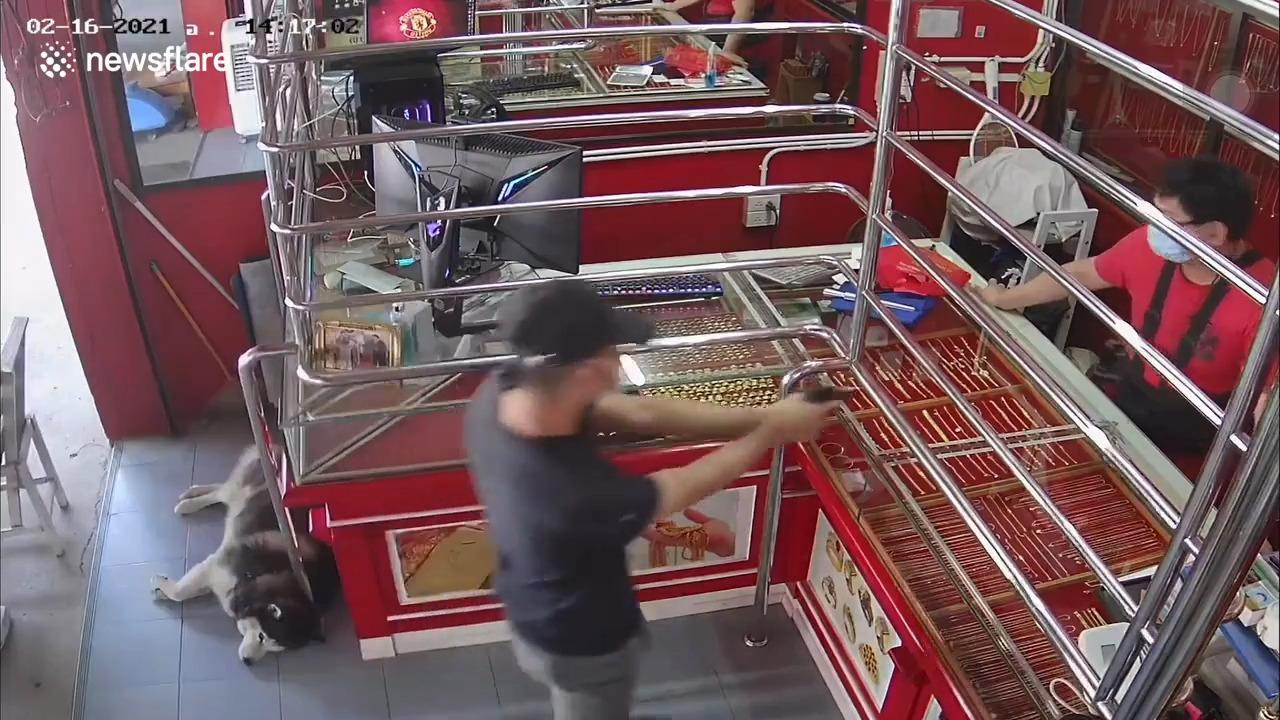non-violence: (456, 280, 848, 720), (981, 162, 1273, 472)
weapon: (801, 378, 879, 413)
